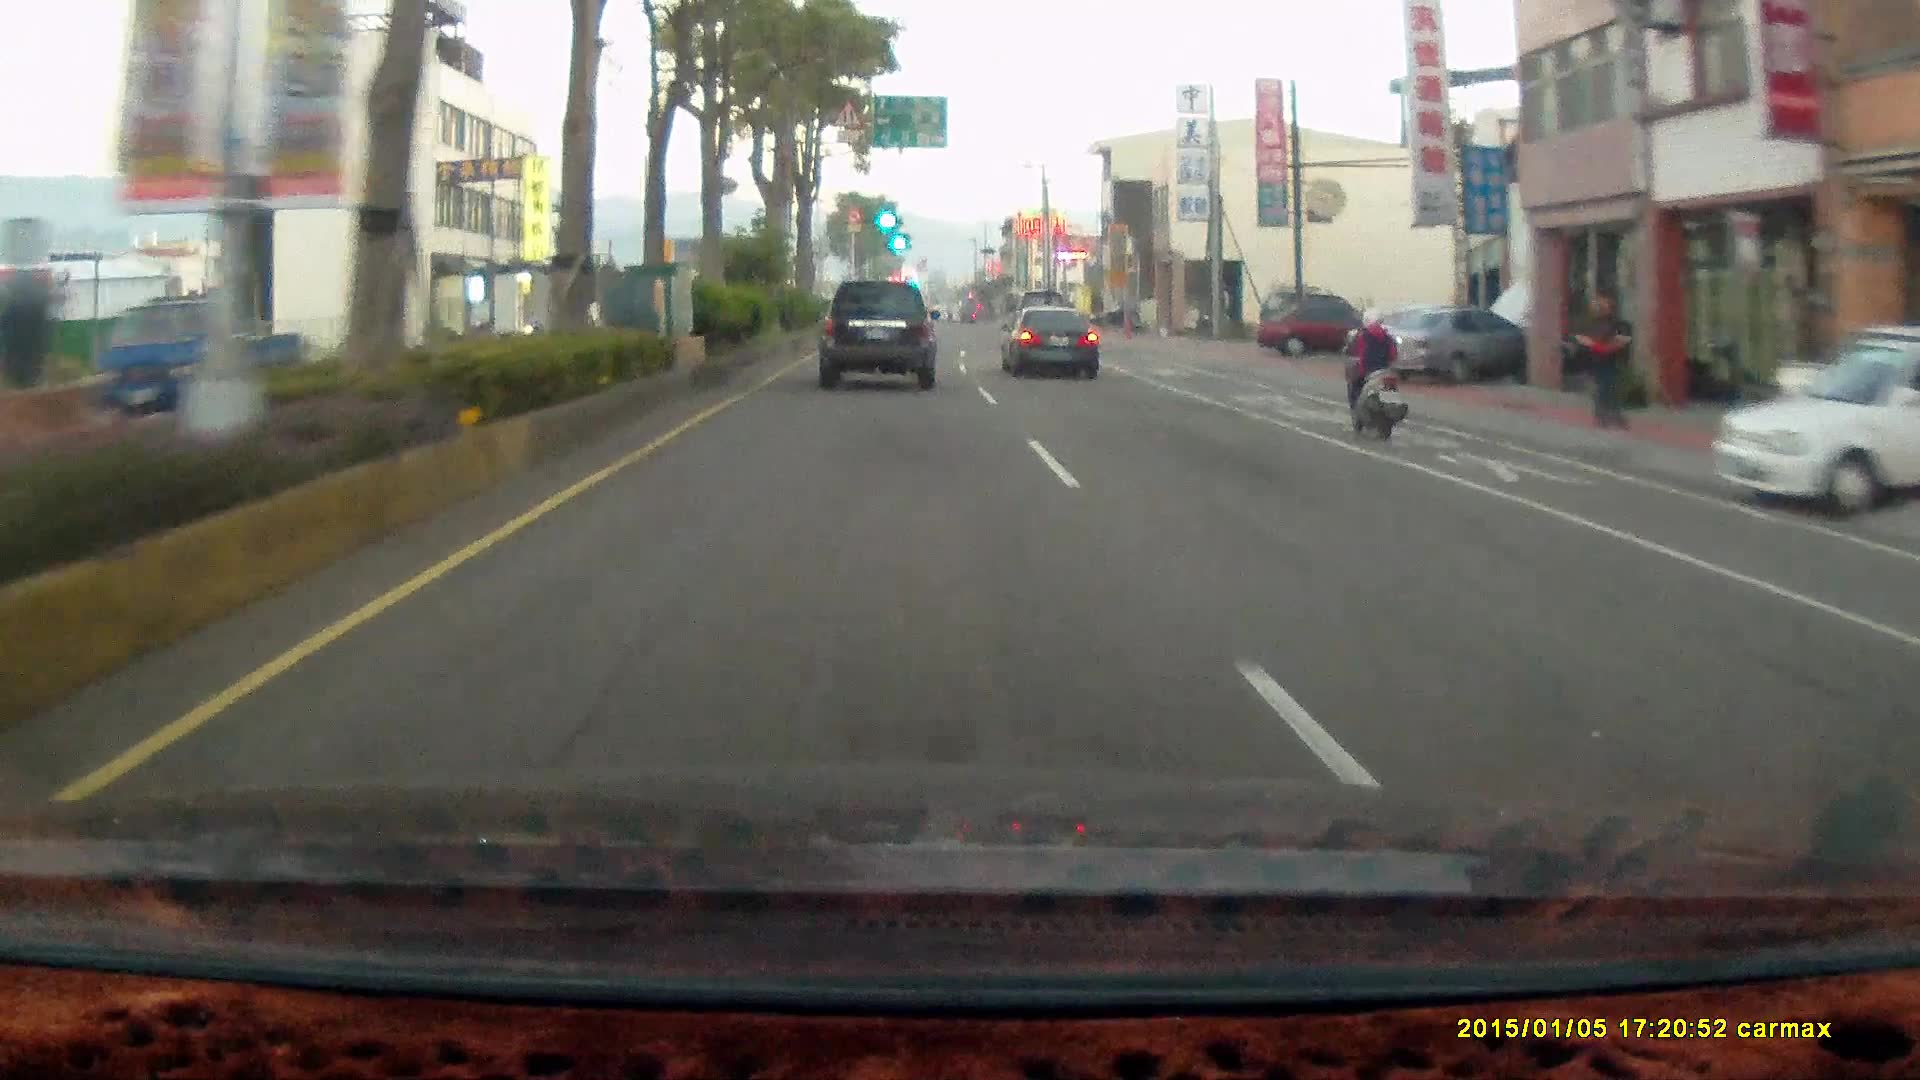pedestrian: (1571, 285, 1639, 437)
rider: (1328, 292, 1420, 452), (1339, 295, 1408, 429)
vehicle: (1711, 322, 1920, 523), (1709, 339, 1919, 520), (95, 292, 306, 432), (1363, 302, 1536, 387), (1352, 307, 1535, 385), (818, 282, 943, 394), (816, 280, 939, 390), (1003, 306, 1105, 378), (1257, 303, 1380, 363), (1000, 304, 1100, 377), (1256, 303, 1379, 357)
